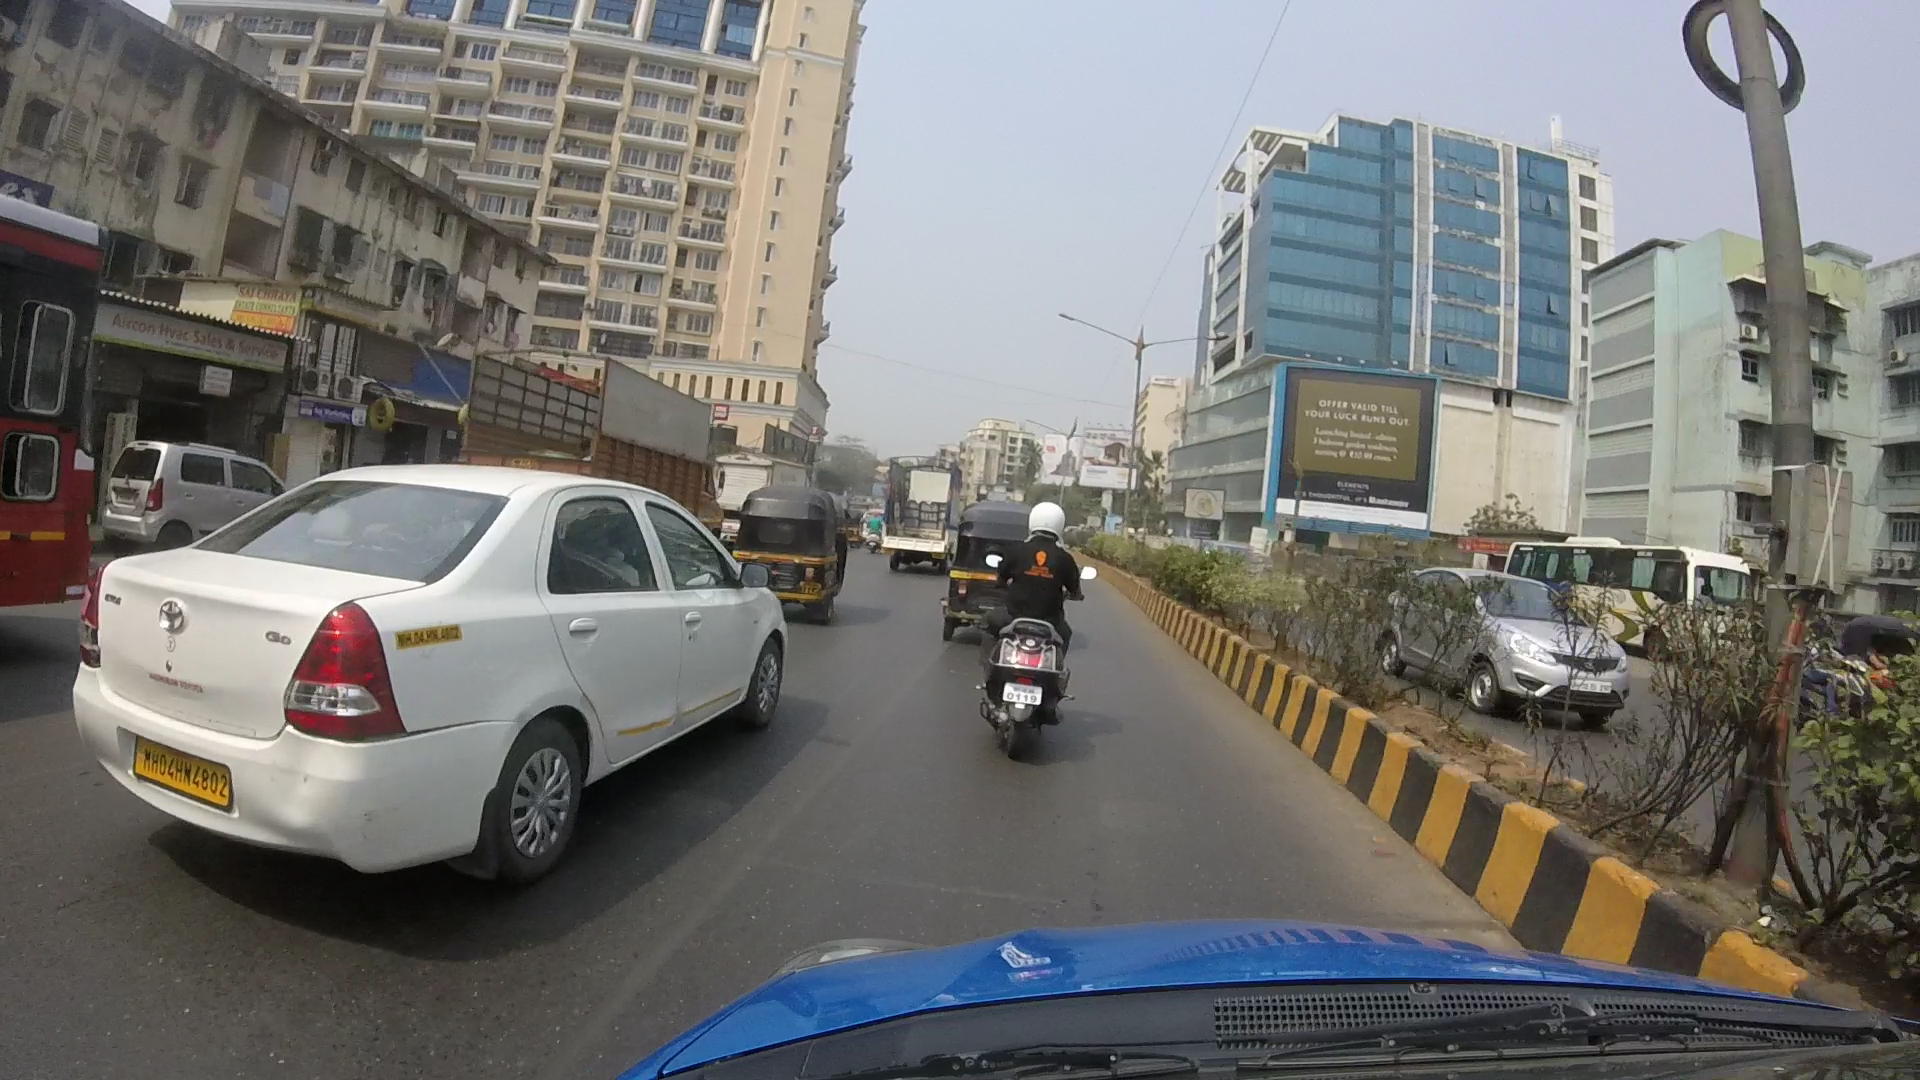bike/scooter: (984, 495, 1075, 760)
bus: (5, 189, 111, 613)
car: (75, 459, 790, 885), (1381, 560, 1622, 733), (96, 439, 278, 545)
rickshaw: (735, 483, 849, 611), (928, 533, 1031, 633)
truck: (463, 345, 719, 535)
